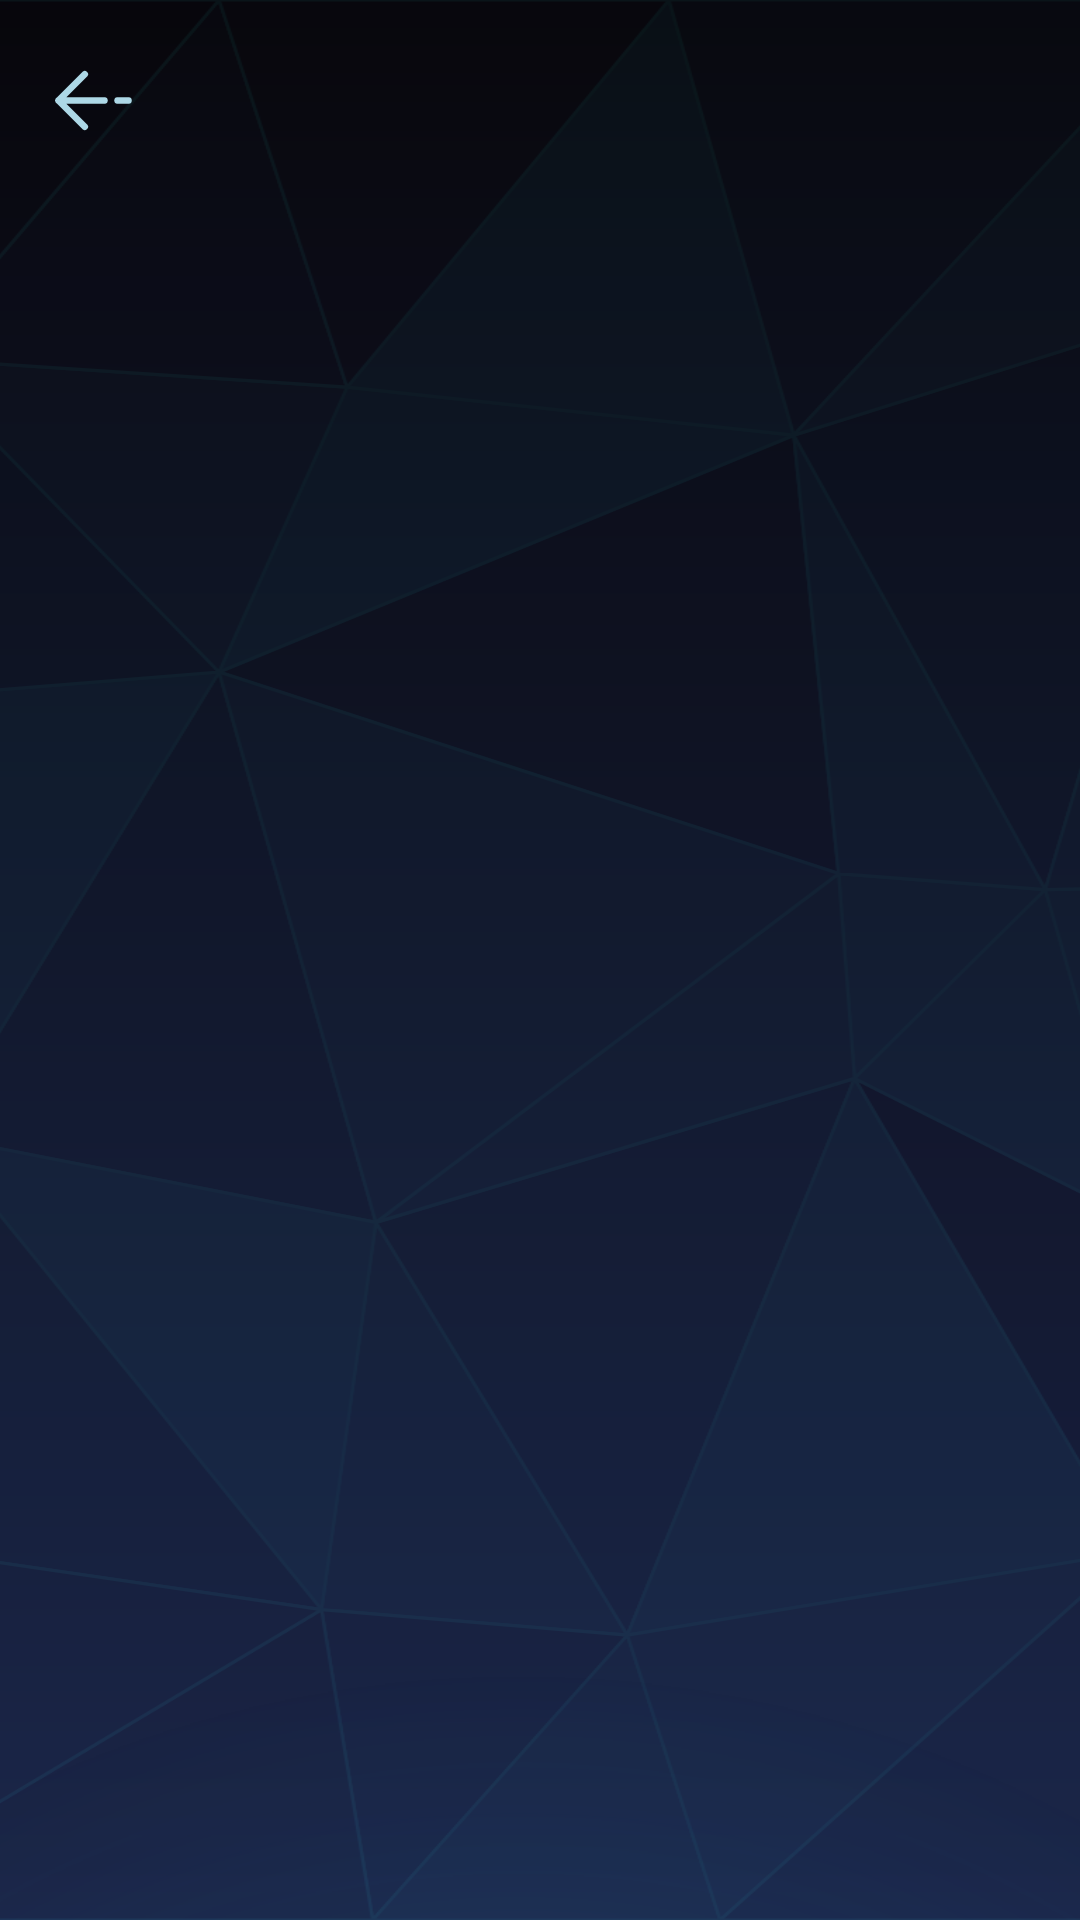

Icon bounding boxes for this 1080px×1920px phone screenshot, format {"x1": x1, "y1": y1, "x2": x2, "y2": y2}:
arrow back: {"x1": 55, "y1": 70, "x2": 132, "y2": 131}
